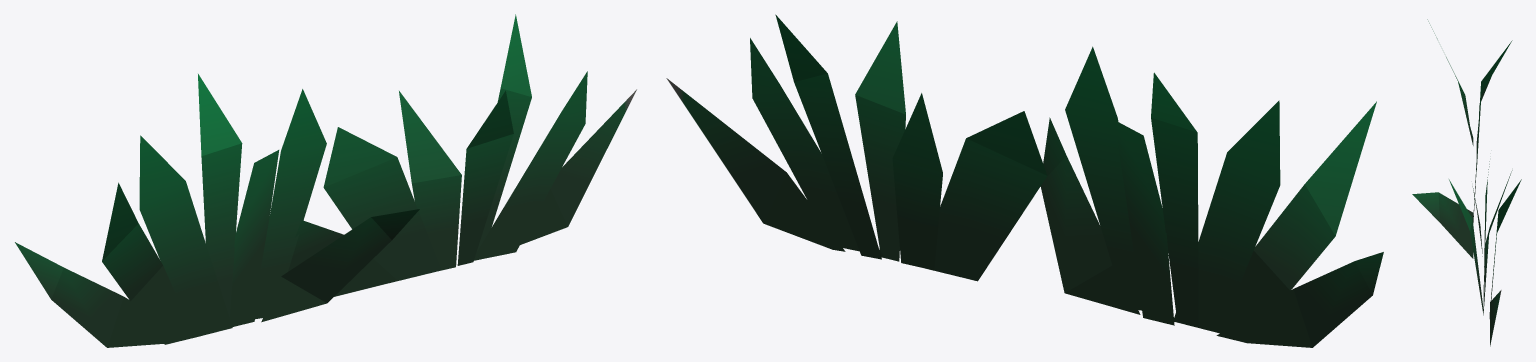
Rendered from Grass_02.fbx.
3 renders of one model, left to right at view 1: azimuth 30°, elevation 25°; view 2: azimuth 150°, elevation 25°; view 3: azimuth 270°, elevation 25°, orthographic. The views are drawn at different scales.
Visible parts, largest first — view 1: grass-long.077; view 2: grass-long.077; view 3: grass-long.077.
Boxes of the visible parts, box(x1,y1,x2,y2) form: grass-long.077: box(15, 14, 636, 347); grass-long.077: box(666, 14, 1383, 347); grass-long.077: box(1412, 19, 1521, 346).
Size of the model in its own units: 201 by 73.94 by 40.12.
